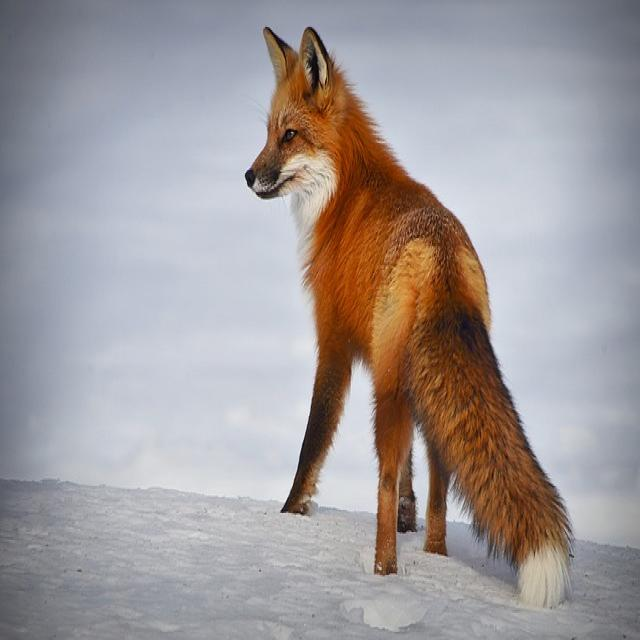Carnivorous: (242, 29, 575, 611)
